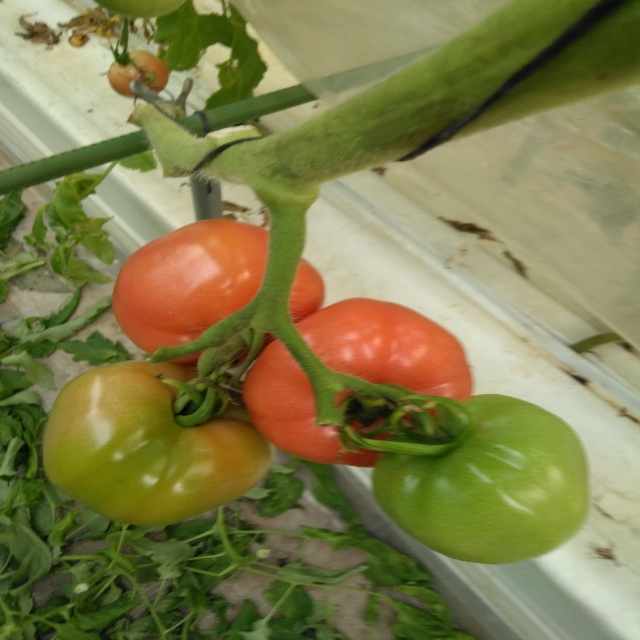b_fully_ripened: (240, 297, 472, 469), (113, 218, 325, 370)
b_green: (371, 392, 588, 564), (93, 0, 186, 17)
b_half_ripened: (44, 359, 278, 527), (108, 50, 169, 100)
